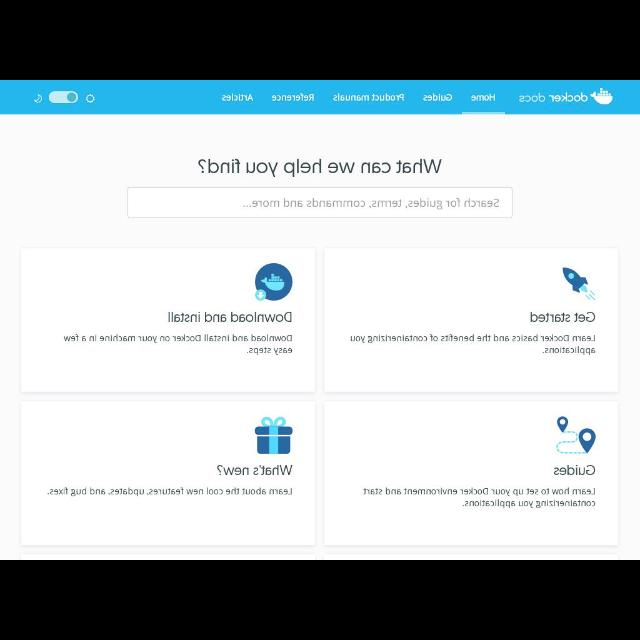icon: (88, 93, 94, 103), (36, 94, 42, 102)
image: (554, 416, 598, 456), (518, 88, 614, 106), (254, 418, 294, 457), (254, 264, 292, 302), (560, 264, 596, 302)
input: (129, 188, 511, 218)
switch: (49, 92, 77, 104)
text: (361, 487, 597, 509), (352, 334, 596, 354), (62, 335, 294, 355), (198, 158, 442, 176), (242, 198, 500, 208), (48, 488, 294, 497), (168, 312, 290, 322), (216, 462, 292, 476), (530, 310, 594, 324), (334, 92, 404, 101), (555, 464, 595, 478), (272, 93, 314, 103), (422, 94, 453, 102), (222, 95, 254, 102), (472, 94, 496, 102)
toolbar: (1, 81, 639, 112)
